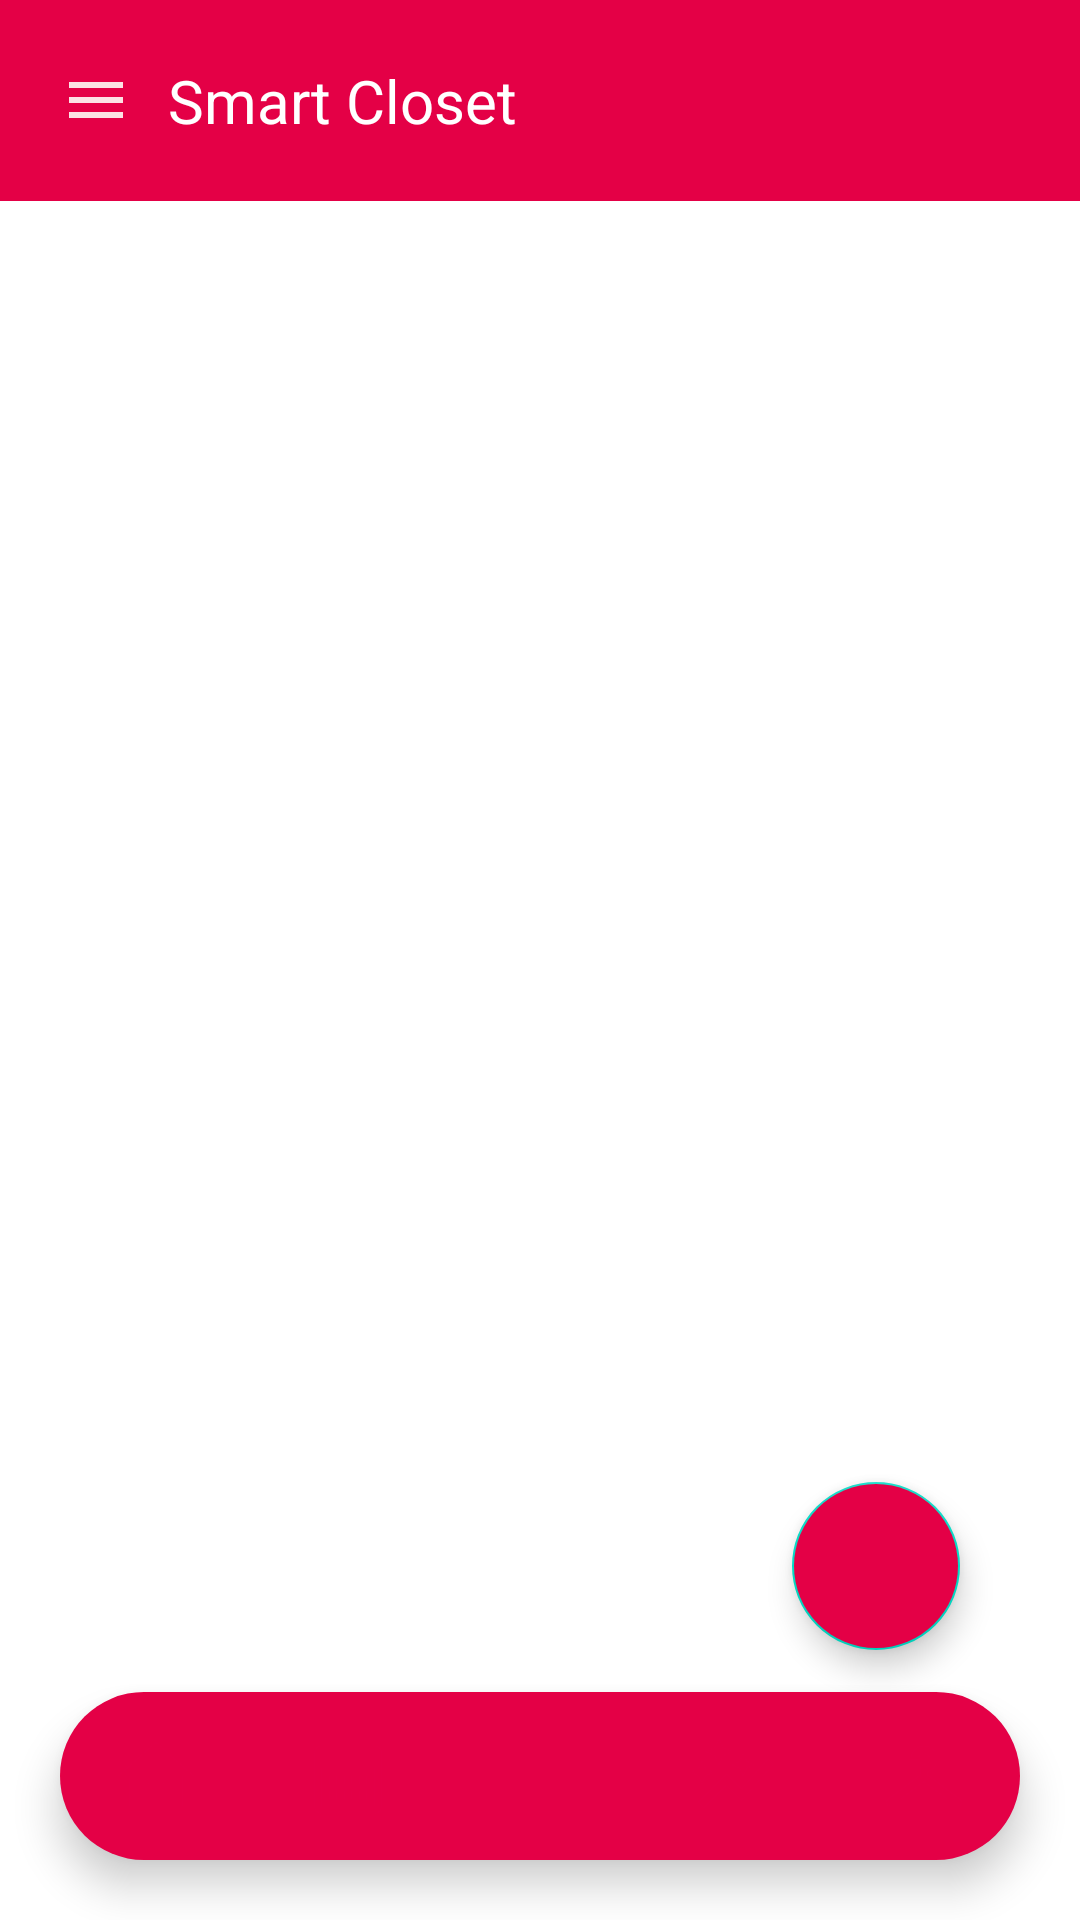

Screen size 1080w x 1920h. Icon name, then its box in pixels as (x1, y1, x2, y2):
menu: (69, 82, 123, 118)
